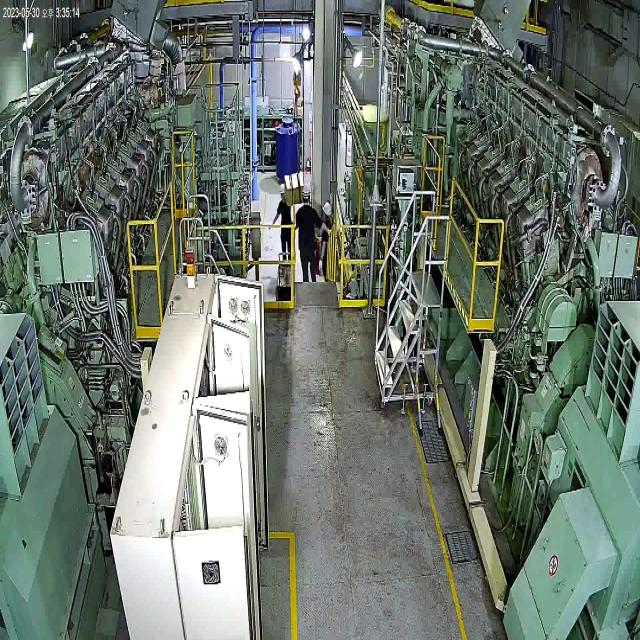Water Tank: (274, 110, 302, 192)
worker: (292, 171, 322, 287), (264, 178, 295, 284), (316, 200, 336, 298)
